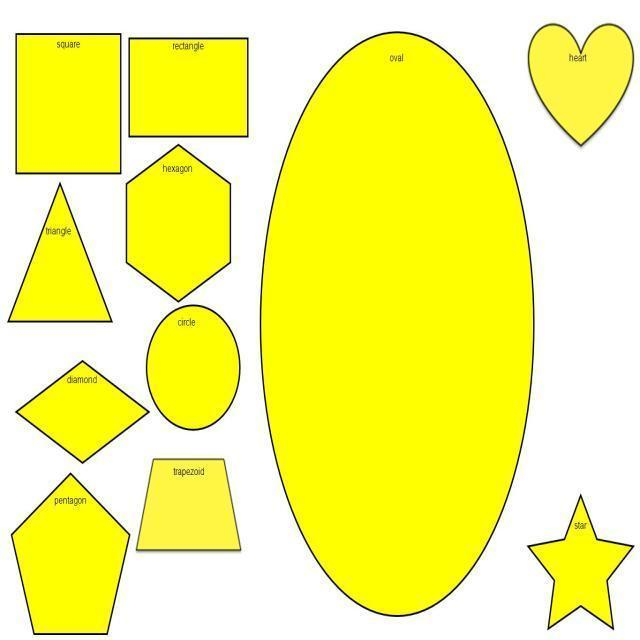circle: (140, 296, 249, 436)
square: (10, 22, 128, 184), (123, 30, 266, 145)
triangle: (5, 179, 124, 341)
